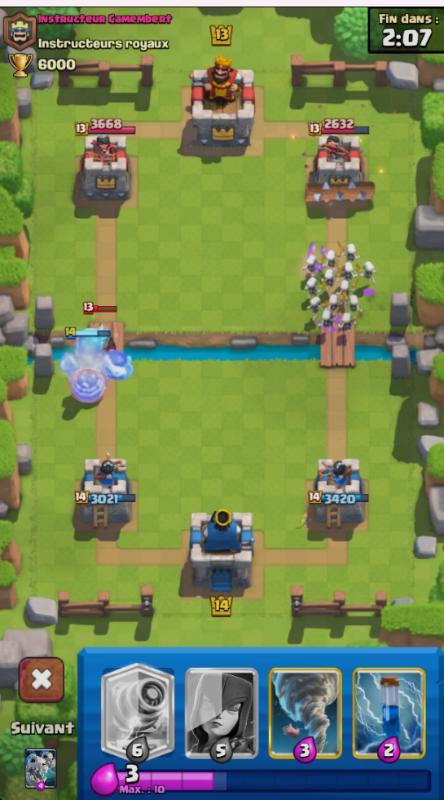squelette: (361, 261, 379, 282), (321, 309, 335, 329), (343, 242, 359, 259), (324, 247, 338, 265), (304, 276, 317, 294), (341, 311, 353, 330), (303, 255, 317, 271), (342, 260, 353, 279), (349, 295, 361, 312), (327, 293, 340, 308), (308, 297, 320, 313), (324, 270, 336, 285), (340, 281, 350, 296)
